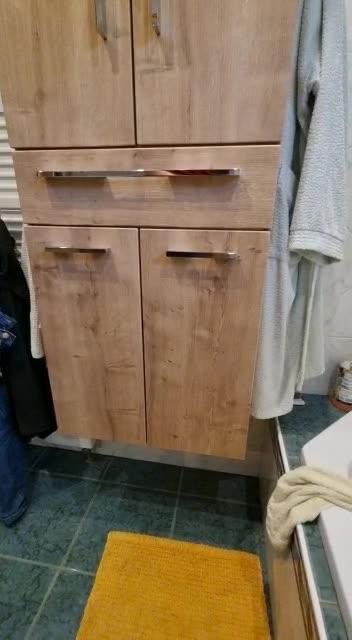cabinet_door: (148, 232, 261, 454), (39, 228, 147, 445), (17, 149, 280, 231)
handle: (33, 164, 248, 185), (159, 245, 247, 267), (44, 240, 117, 265)
